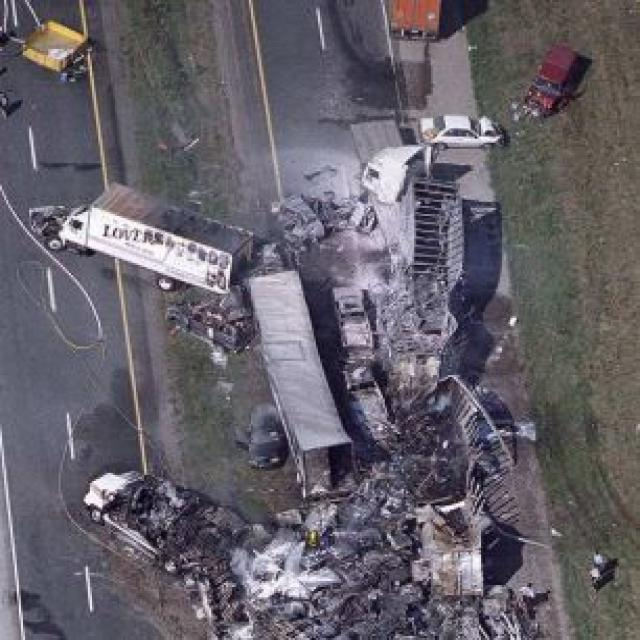traffic_incident: (241, 128, 534, 638), (88, 458, 293, 610), (25, 174, 259, 286)
